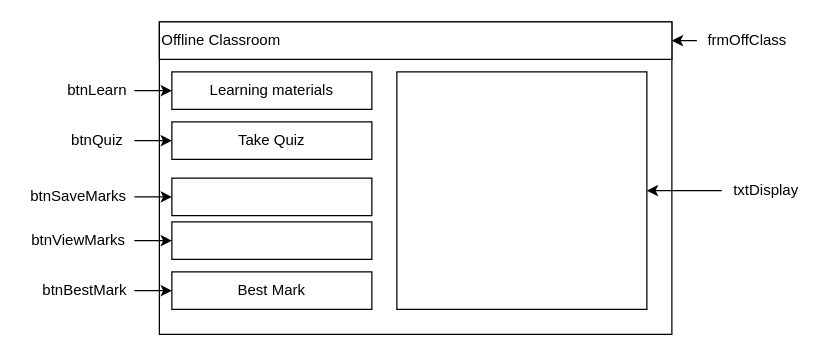
Image size: 830x356. Some labels were removed from this diagram. Each missing label, with the centre of its shape:
Save Marks: point (271, 196)
View Marks: point (271, 240)
